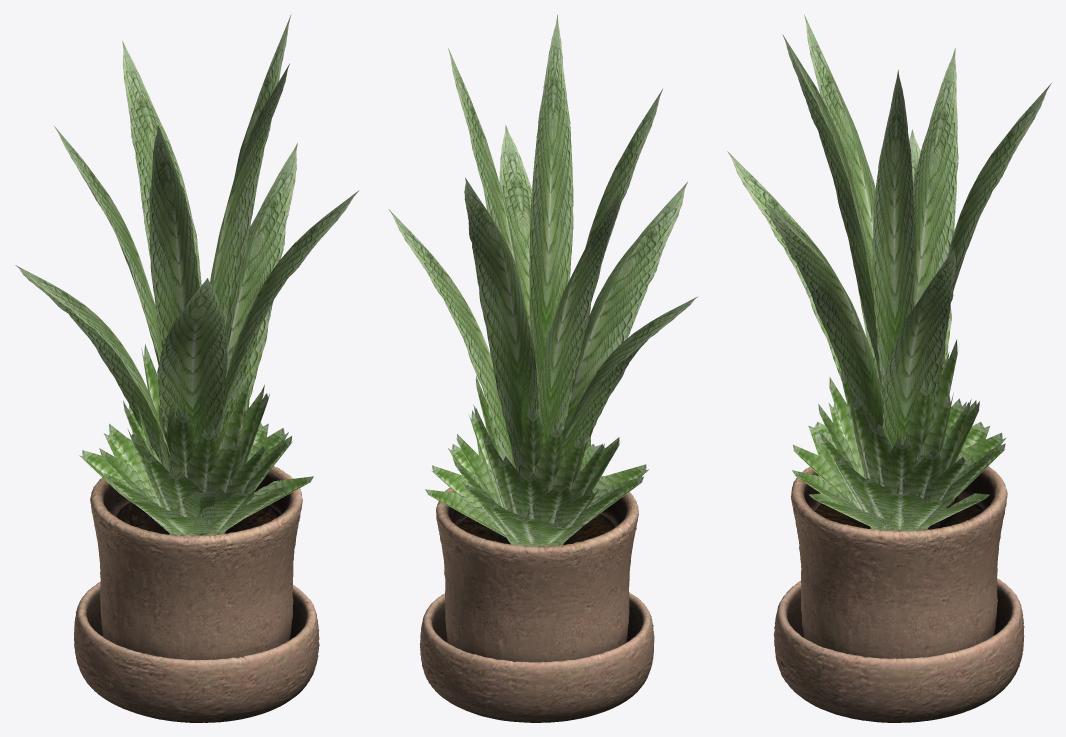
The model's file is potPlant.glb.
The picture shows the model from 3 angles, left to right: view 1: azimuth 30°, elevation 25°; view 2: azimuth 150°, elevation 25°; view 3: azimuth 270°, elevation 25°; orthographic projection. The views are drawn at different scales.
Parts seen in each view (by area): view 1: Low-Poly Plant_.001_0, Low-Poly Plant__0; view 2: Low-Poly Plant_.001_0, Low-Poly Plant__0; view 3: Low-Poly Plant_.001_0, Low-Poly Plant__0.
Boxes of the visible parts, x1=… form: Low-Poly Plant_.001_0: x1=15, y1=14, x2=359, y2=535; Low-Poly Plant__0: x1=74, y1=466, x2=319, y2=722; Low-Poly Plant_.001_0: x1=388, y1=14, x2=697, y2=546; Low-Poly Plant__0: x1=419, y1=476, x2=654, y2=722; Low-Poly Plant_.001_0: x1=727, y1=14, x2=1051, y2=530; Low-Poly Plant__0: x1=773, y1=466, x2=1024, y2=722.
Size of what is drawn, in the model's own units: 0.9355 by 1.93 by 0.8489.
Materials: 2 (2 with a texture image).
